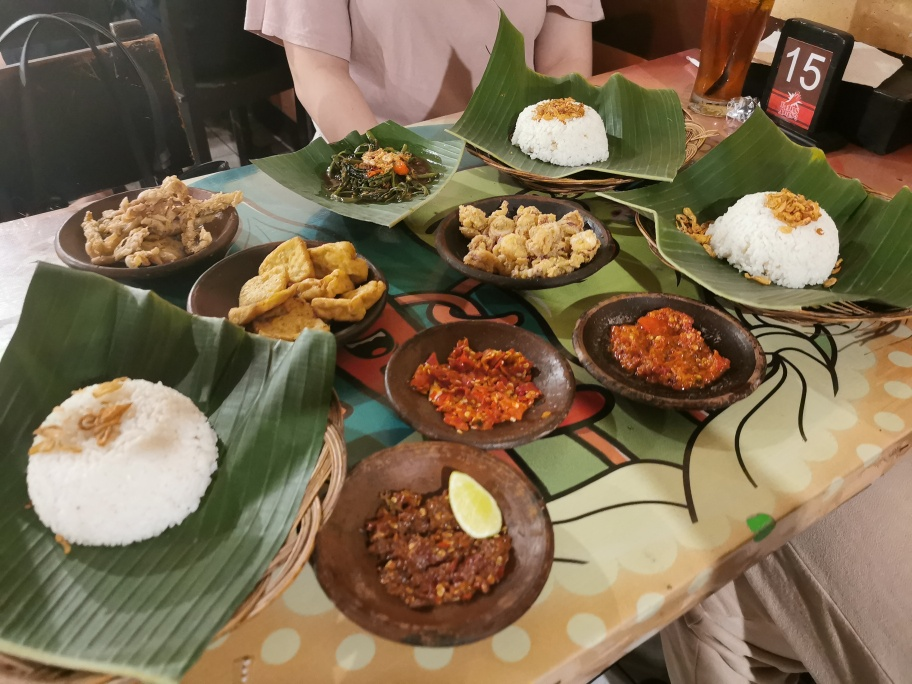nasi putih: (28, 374, 220, 546), (703, 185, 842, 290), (511, 95, 612, 166)
